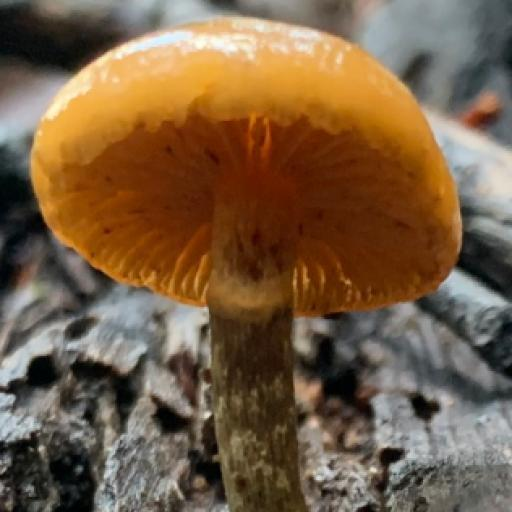mushroom: (26, 15, 468, 388)
